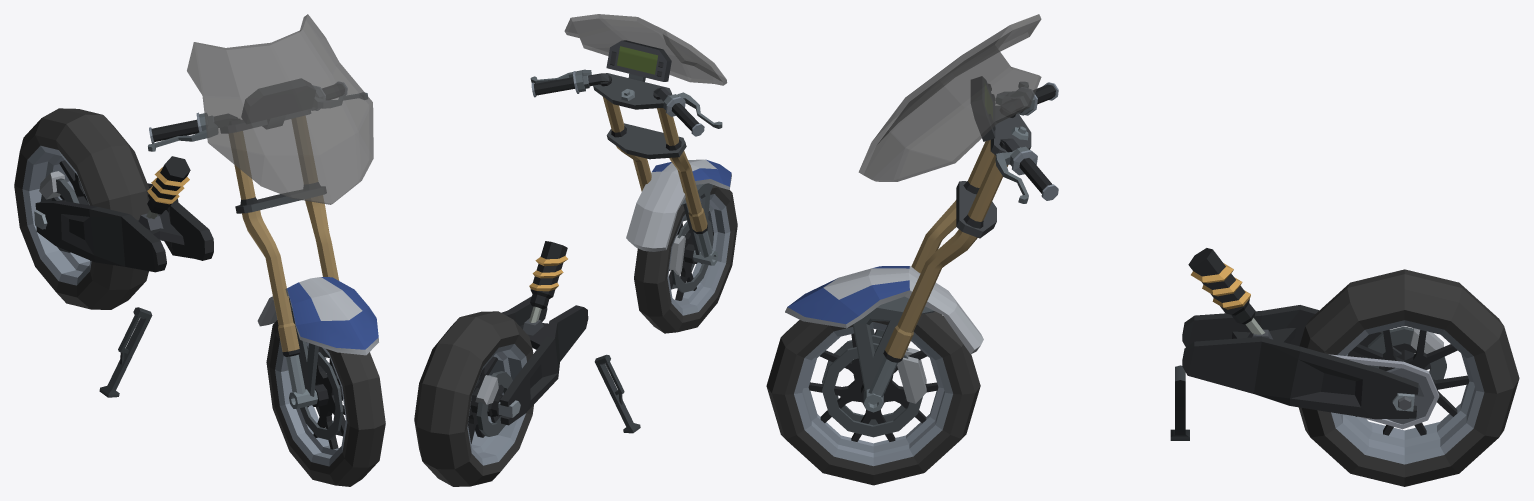
Rendered from SM_Veh_Motorbike_01.fbx.
3 renders of one model, left to right at view 1: azimuth 30°, elevation 25°; view 2: azimuth 150°, elevation 25°; view 3: azimuth 270°, elevation 25°, orthographic. The views are drawn at different scales.
Parts seen in each view (by area): view 1: SM_Veh_Motorbike_01_Screen (×2), SM_Veh_Motorbike_01_Wheel_Rear, SM_Veh_Motorbike_01_Wheel_Front_01, SM_Veh_Motorbike_01_Rear_Shock, SM_Veh_Motorbike_01_Handlebars, SM_Veh_Motorbike_01_Wheel_Cap, SM_Veh_Motorbike_01_Front_Shock, SM_Veh_Motorbike_01_Kickstand; view 2: SM_Veh_Motorbike_01_Wheel_Rear, SM_Veh_Motorbike_01_Handlebars, SM_Veh_Motorbike_01_Wheel_Front_01, SM_Veh_Motorbike_01_Rear_Shock, SM_Veh_Motorbike_01_Screen (×2), SM_Veh_Motorbike_01_Wheel_Cap, SM_Veh_Motorbike_01_Front_Shock, SM_Veh_Motorbike_01_Kickstand; view 3: SM_Veh_Motorbike_01_Wheel_Rear, SM_Veh_Motorbike_01_Wheel_Front_01, SM_Veh_Motorbike_01_Rear_Shock, SM_Veh_Motorbike_01_Screen (×2), SM_Veh_Motorbike_01_Handlebars, SM_Veh_Motorbike_01_Wheel_Cap, SM_Veh_Motorbike_01_Front_Shock, SM_Veh_Motorbike_01_Kickstand.
Boxes of the visible parts, x1,y1,x2,y2 form: SM_Veh_Motorbike_01_Screen (×2): (187, 14, 373, 204); SM_Veh_Motorbike_01_Wheel_Rear: (14, 108, 149, 309); SM_Veh_Motorbike_01_Wheel_Front_01: (266, 320, 385, 486); SM_Veh_Motorbike_01_Rear_Shock: (34, 156, 213, 272); SM_Veh_Motorbike_01_Handlebars: (148, 82, 367, 356); SM_Veh_Motorbike_01_Wheel_Cap: (257, 277, 378, 355); SM_Veh_Motorbike_01_Front_Shock: (286, 298, 326, 408); SM_Veh_Motorbike_01_Kickstand: (99, 307, 152, 397); SM_Veh_Motorbike_01_Wheel_Rear: (414, 311, 533, 486); SM_Veh_Motorbike_01_Handlebars: (530, 69, 722, 234); SM_Veh_Motorbike_01_Wheel_Front_01: (634, 185, 737, 333); SM_Veh_Motorbike_01_Rear_Shock: (475, 241, 588, 425); SM_Veh_Motorbike_01_Screen (×2): (564, 14, 727, 85); SM_Veh_Motorbike_01_Wheel_Cap: (626, 159, 731, 251); SM_Veh_Motorbike_01_Front_Shock: (669, 183, 718, 275); SM_Veh_Motorbike_01_Kickstand: (594, 354, 640, 433); SM_Veh_Motorbike_01_Wheel_Rear: (1298, 269, 1519, 486); SM_Veh_Motorbike_01_Wheel_Front_01: (766, 311, 980, 485); SM_Veh_Motorbike_01_Rear_Shock: (1182, 248, 1443, 429); SM_Veh_Motorbike_01_Screen (×2): (858, 14, 1041, 181); SM_Veh_Motorbike_01_Handlebars: (883, 82, 1058, 362); SM_Veh_Motorbike_01_Wheel_Cap: (785, 266, 983, 353); SM_Veh_Motorbike_01_Front_Shock: (852, 296, 934, 412); SM_Veh_Motorbike_01_Kickstand: (1170, 365, 1189, 440).
Bounding box in the file's own units: 80.54 × 139 × 217.
